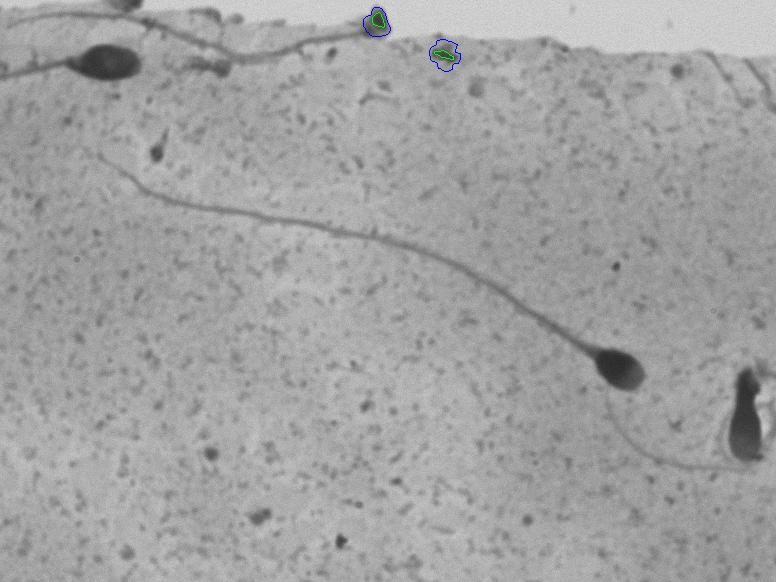Normal: (86, 140, 650, 424)
